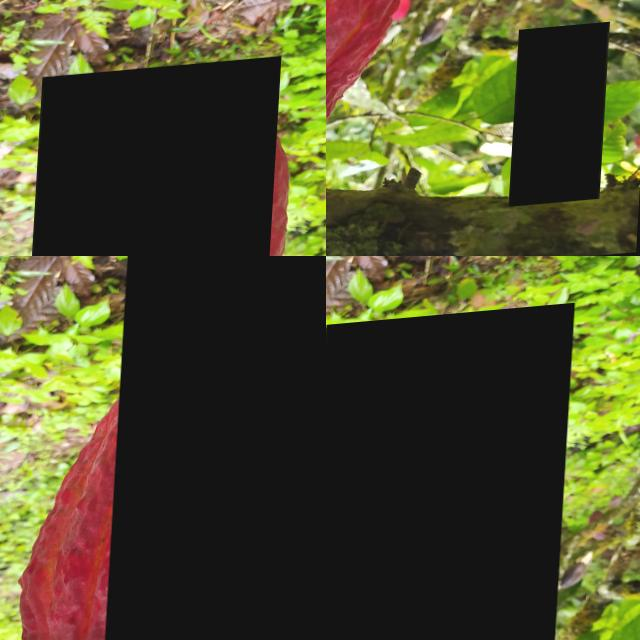Monilia: (516, 33, 615, 216)
Sana: (107, 256, 326, 640), (326, 310, 576, 640), (25, 63, 282, 256)
